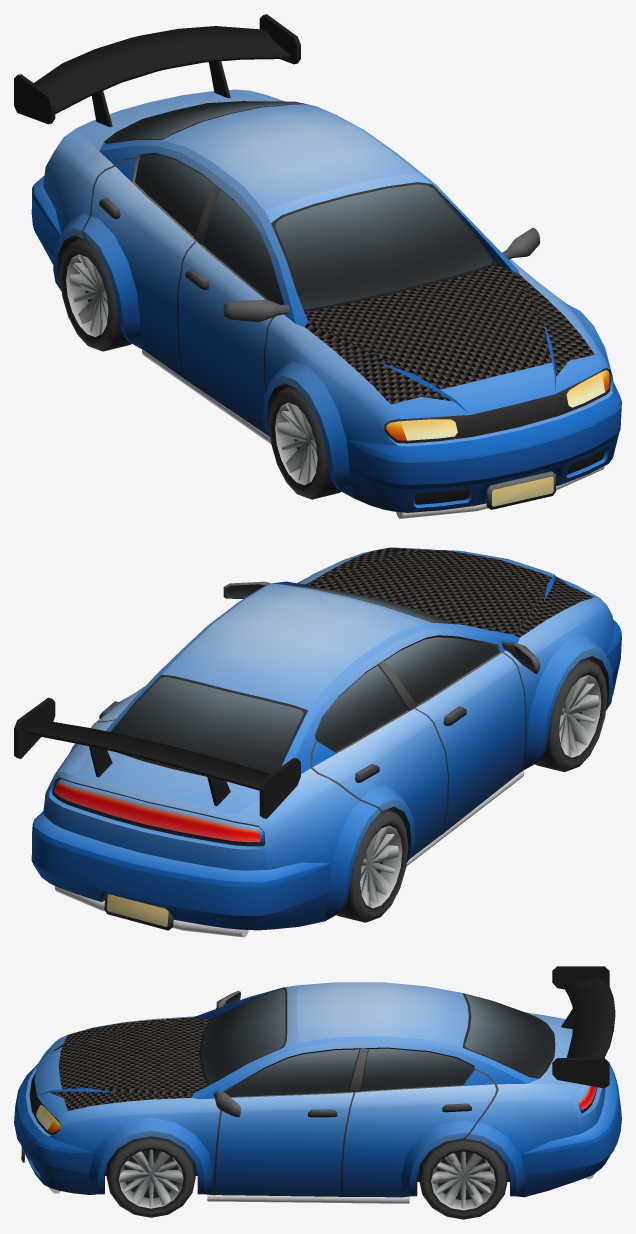
Rendered from Car_4.fbx.
3 views of the same model, one above another, from view 1: azimuth 30°, elevation 25°; view 2: azimuth 150°, elevation 25°; view 3: azimuth 270°, elevation 25° (orthographic). The views are drawn at different scales.
Parts seen in each view (by area): view 1: Car_14B, CarbonPart, Spoiler.003, OldPart.004, Wheel_14B_F.R, Wheel_14B_R.R, Wheel_14B_R.R_1, Wheel_14B_F.R_1, Neon.006; view 2: Car_14B, CarbonPart, Spoiler.003, Wheel_14B_F.R, Wheel_14B_R.R, Wheel_14B_R.R_1, Wheel_14B_F.R_1, Neon.006, OldPart.004; view 3: Car_14B, CarbonPart, Spoiler.003, Wheel_14B_F.L, Wheel_14B_R.L, Wheel_14B_R.L_1, Wheel_14B_F.L_1, OldPart.004, Neon.006.
Boxes of the visible parts, x1,y1,x2,y2 form: Car_14B: [31, 89, 621, 512]; CarbonPart: [304, 264, 594, 418]; Spoiler.003: [14, 14, 300, 127]; OldPart.004: [378, 322, 601, 419]; Wheel_14B_F.R: [269, 388, 341, 499]; Wheel_14B_R.R: [60, 241, 131, 351]; Wheel_14B_R.R_1: [60, 238, 129, 349]; Wheel_14B_F.R_1: [269, 385, 335, 499]; Neon.006: [142, 349, 604, 518]; Car_14B: [31, 551, 621, 930]; CarbonPart: [306, 547, 594, 637]; Spoiler.003: [14, 697, 300, 818]; Wheel_14B_F.R: [535, 658, 607, 771]; Wheel_14B_R.R: [336, 809, 408, 922]; Wheel_14B_R.R_1: [340, 809, 408, 916]; Wheel_14B_F.R_1: [537, 659, 606, 771]; Neon.006: [55, 770, 523, 937]; OldPart.004: [396, 547, 600, 600]; Car_14B: [14, 982, 621, 1197]; CarbonPart: [50, 1017, 211, 1116]; Spoiler.003: [552, 966, 615, 1088]; Wheel_14B_F.L: [106, 1136, 195, 1217]; Wheel_14B_R.L: [419, 1139, 507, 1219]; Wheel_14B_R.L_1: [419, 1138, 507, 1215]; Wheel_14B_F.L_1: [106, 1136, 195, 1217]; OldPart.004: [34, 1035, 116, 1116]; Neon.006: [49, 1173, 594, 1203].
Size of the model in its own units: 2.65 by 1.7 by 5.78.
3 materials, 2 textured.
